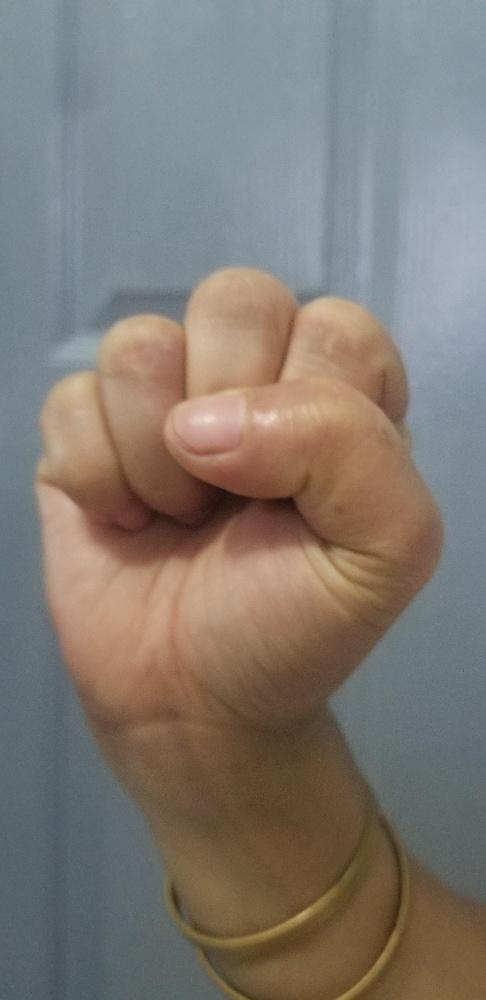s: (32, 265, 446, 730)
